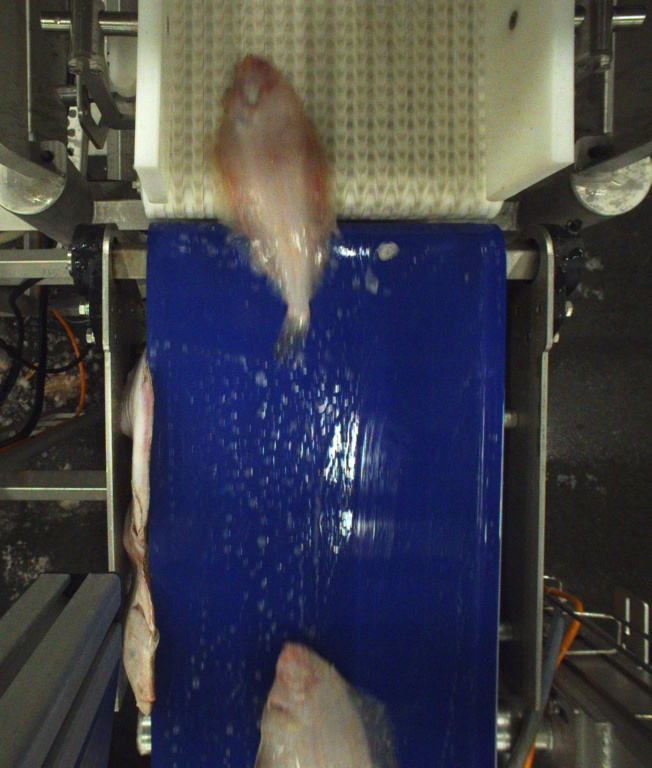WIT: (254, 644, 396, 768)
